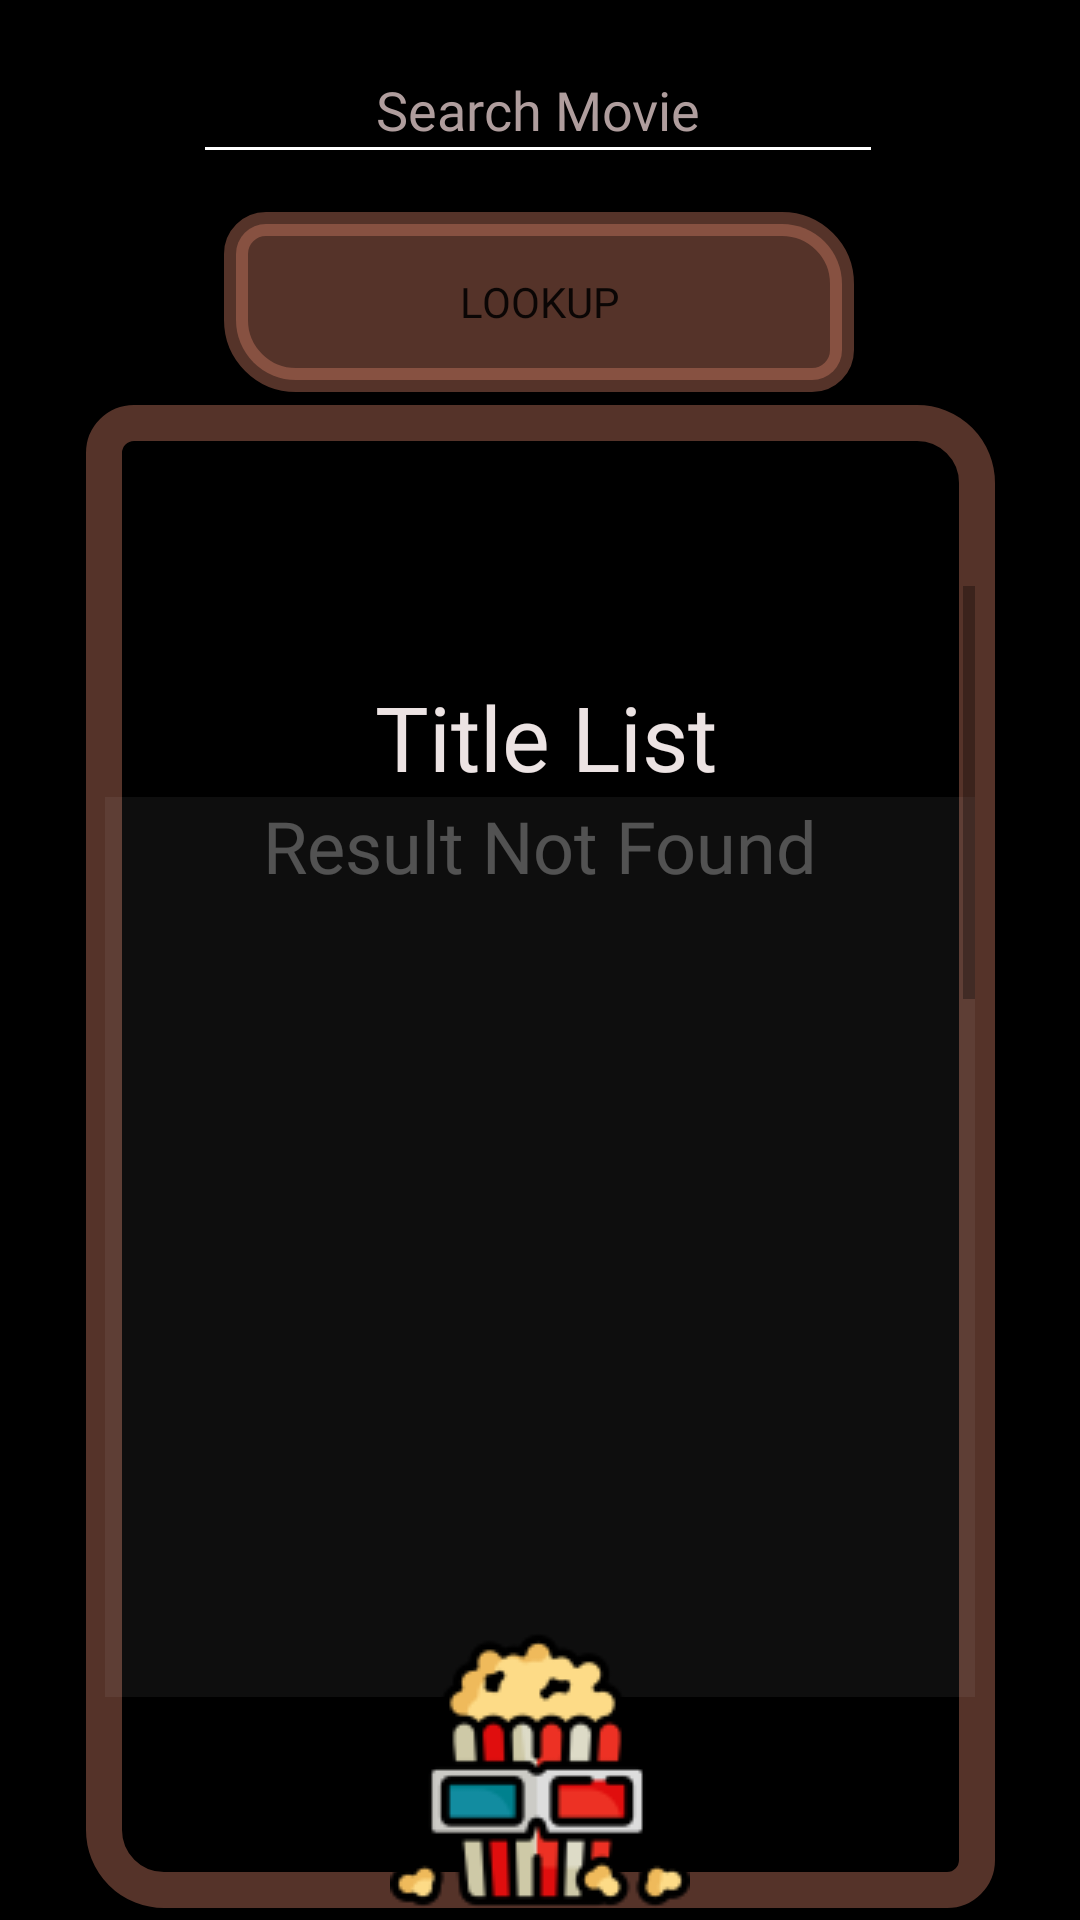

Named icons in this screenshot (1080 x 1920) and their bounding boxes, (x1, y1, x2, y2):
movie: (398, 1643, 682, 1898)
